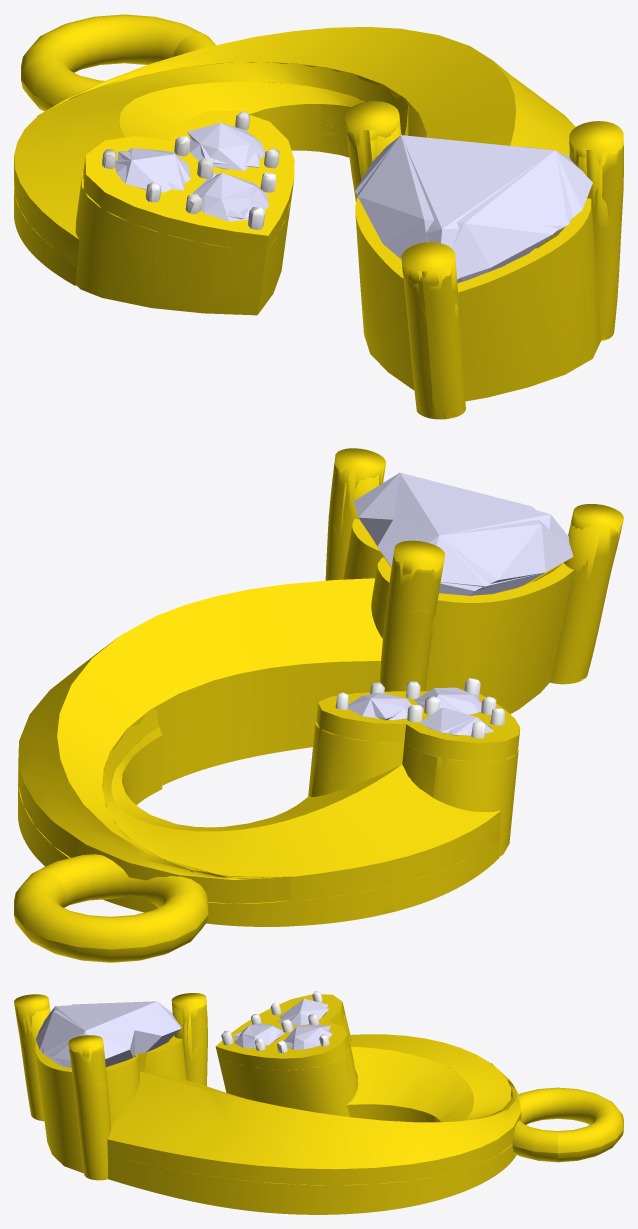
File: DPN-D000675695.glb
The picture shows the model from 3 angles, top to bottom: view 1: azimuth 30°, elevation 25°; view 2: azimuth 150°, elevation 25°; view 3: azimuth 270°, elevation 25°; orthographic projection. The views are drawn at different scales.
Visible parts, largest first — view 1: highPolyMesh, lowPolyMesh; view 2: highPolyMesh, lowPolyMesh; view 3: highPolyMesh, lowPolyMesh.
Part boxes in pixels (<box>): highPolyMesh: <box>14,15,623,419</box>; lowPolyMesh: <box>14,14,623,419</box>; highPolyMesh: <box>14,448,623,962</box>; lowPolyMesh: <box>14,448,623,959</box>; highPolyMesh: <box>14,991,623,1214</box>; lowPolyMesh: <box>14,992,623,1214</box>.
Size of the model in its own units: 0.0078 by 0.00331 by 0.0136.
